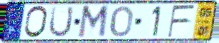1: (150, 6, 162, 38)
F: (167, 4, 197, 39)
M: (76, 4, 111, 40)
O: (23, 5, 49, 40), (110, 6, 134, 38)
U: (47, 6, 76, 39)
